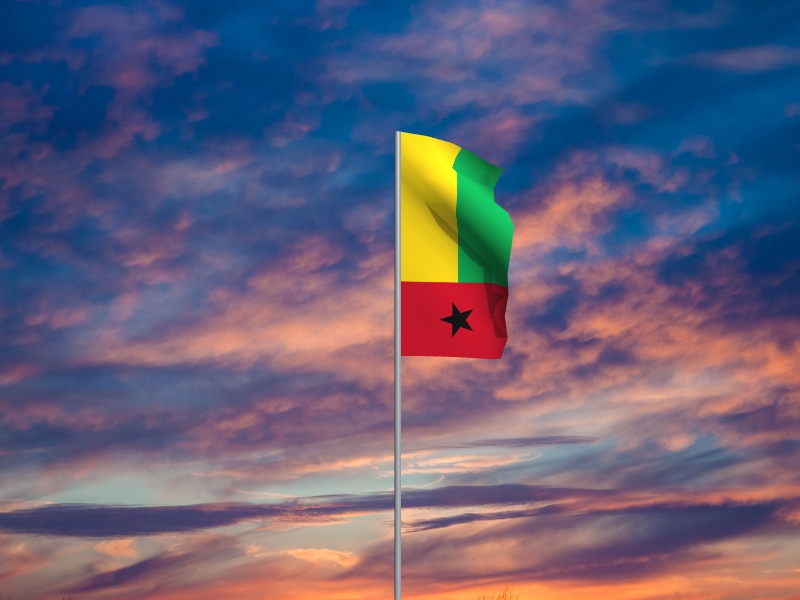gw: (401, 133, 516, 361)
